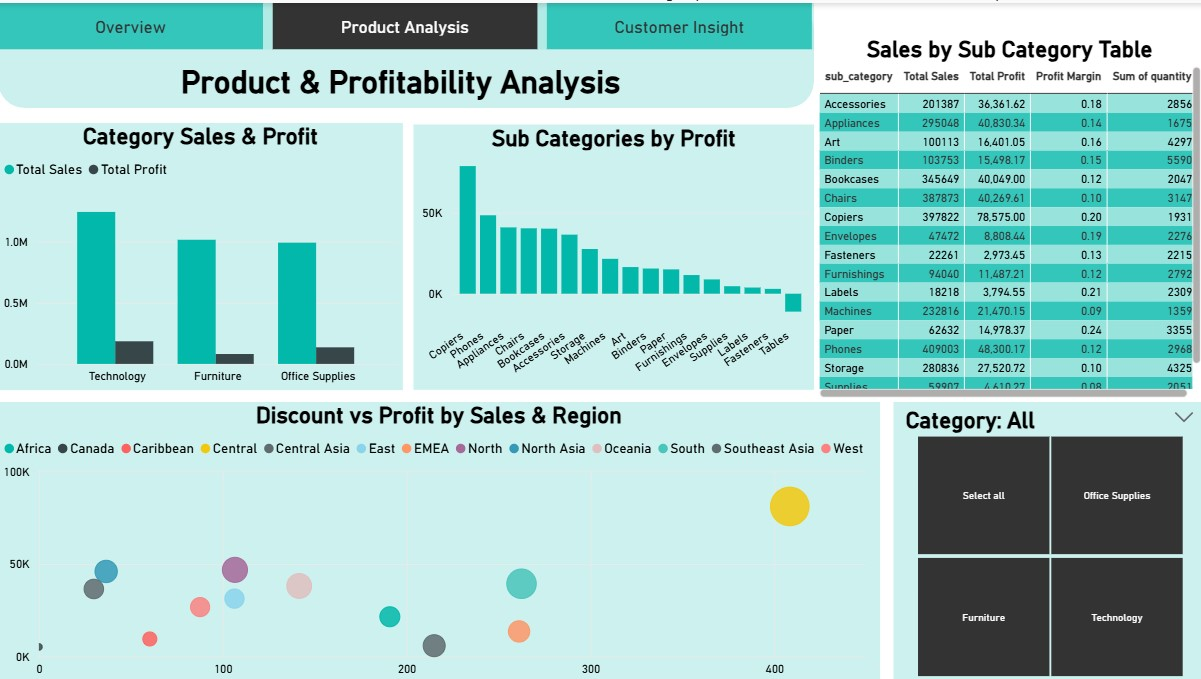

This screenshot's page, from the dashboard's own definition file:
{"tool":"powerbi","page":{"name":"Product Analysis","canvas":[1280,720],"ordinal":1},"visuals":[{"type":"shape","box":[0,0,865.3,111.3],"z":0},{"type":"textbox","box":[0,49.3,865.3,62],"z":1000},{"type":"clusteredColumnChart","title":"Category Sales & Profit","fields":{"Category":["SuperStoreOrders - SuperStoreOrders.category"],"Y":["SuperStoreOrders - SuperStoreOrders.Total Sales","SuperStoreOrders - SuperStoreOrders.Total Profit"]},"box":[0,127.2,429.5,283.1],"z":2000},{"type":"columnChart","title":"Sub Categories by Profit","fields":{"Category":["SuperStoreOrders - SuperStoreOrders.sub_category"],"Y":["SuperStoreOrders - SuperStoreOrders.Total Profit"]},"box":[440.6,128.8,424.7,281.5],"z":3000},{"type":"scatterChart","title":"Discount vs Profit by Sales & Region","fields":{"X":["Sum(SuperStoreOrders - SuperStoreOrders.discount)"],"Y":["SuperStoreOrders - SuperStoreOrders.Total Profit"],"Size":["SuperStoreOrders - SuperStoreOrders.Total Sales"],"Series":["SuperStoreOrders - SuperStoreOrders.region"]},"box":[0,423.1,935.3,297.4],"z":4000},{"type":"tableEx","title":"Sales by Sub Category Table","fields":{"Values":["SuperStoreOrders - SuperStoreOrders.sub_category","SuperStoreOrders - SuperStoreOrders.Total Sales","SuperStoreOrders - SuperStoreOrders.Total Profit","SuperStoreOrders - SuperStoreOrders.Profit Margin","Sum(SuperStoreOrders - SuperStoreOrders.quantity)"]},"box":[865.3,35,415.1,388.1],"z":5000},{"type":"slicer","fields":{"Values":["SuperStoreOrders - SuperStoreOrders.category"]},"box":[949.6,423.1,330.8,297.4],"z":6000},{"type":"pageNavigator","box":[0,0,865.3,49.3],"z":7000}]}

Visuals, with their boxes in screenshot pixels (x1, y1, x2, y2), scaled from the page's 1280x720 canvas onto the 1201x679 screenshot:
shape: l=0, t=0, r=812, b=105
textbox: l=0, t=46, r=812, b=105
"Category Sales & Profit" clusteredColumnChart: l=0, t=120, r=403, b=387
"Sub Categories by Profit" columnChart: l=413, t=121, r=812, b=387
"Discount vs Profit by Sales & Region" scatterChart: l=0, t=399, r=878, b=678
"Sales by Sub Category Table" tableEx: l=812, t=33, r=1200, b=399
slicer - SuperStoreOrders - SuperStoreOrders.category: l=891, t=399, r=1200, b=678
pageNavigator: l=0, t=0, r=812, b=46
